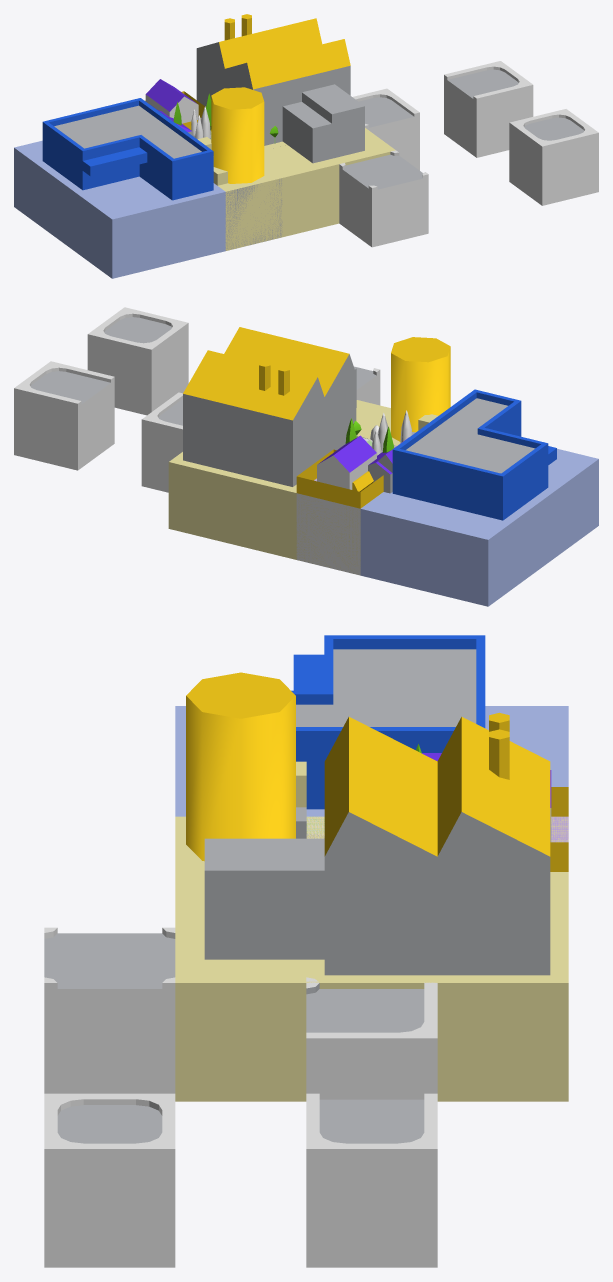
The model's file is assets.glb.
3 views of the same model, one above another, from view 1: azimuth 30°, elevation 25°; view 2: azimuth 150°, elevation 25°; view 3: azimuth 270°, elevation 25° (orthographic). The views are drawn at different scales.
Parts seen in each view (by area): view 1: factory, shop, road-null, road-x, road-end, Kitch_factory, road-corner, house, park1; view 2: factory, shop, road-end, road-null, house, road-corner, Kitch_factory, select, road-x, house_main1, tree2, park1; view 3: factory, shop, road-null, road-end, road-x, road-corner, Kitch_factory, select.
Boxes of the visible parts, left/top/right/bottom form: factory: left=196, top=18, right=395, bottom=250; shop: left=14, top=98, right=225, bottom=278; road-null: left=509, top=109, right=598, bottom=205; road-x: left=339, top=150, right=428, bottom=247; road-end: left=444, top=61, right=533, bottom=157; Kitch_factory: left=198, top=14, right=350, bottom=250; road-corner: left=352, top=88, right=419, bottom=170; house: left=145, top=79, right=201, bottom=123; park1: left=173, top=93, right=278, bottom=143; factory: left=168, top=327, right=450, bottom=573; shop: left=360, top=389, right=598, bottom=606; road-end: left=14, top=361, right=114, bottom=470; road-null: left=87, top=307, right=188, bottom=415; house: left=296, top=435, right=376, bottom=575; road-corner: left=141, top=392, right=182, bottom=492; Kitch_factory: left=259, top=361, right=438, bottom=491; select: left=296, top=449, right=383, bottom=508; road-x: left=354, top=366, right=380, bottom=405; house_main1: left=368, top=447, right=394, bottom=493; tree2: left=370, top=410, right=412, bottom=455; park1: left=345, top=418, right=396, bottom=452; factory: left=175, top=672, right=568, bottom=1101; shop: left=175, top=635, right=568, bottom=816; road-null: left=44, top=1093, right=175, bottom=1267; road-end: left=306, top=1093, right=437, bottom=1267; road-x: left=44, top=927, right=175, bottom=1093; road-corner: left=306, top=983, right=437, bottom=1099; Kitch_factory: left=175, top=712, right=509, bottom=974; select: left=550, top=787, right=568, bottom=871.
Bounding box in the file's own units: 8 × 2.53 × 4.
1 material, 1 textured.
